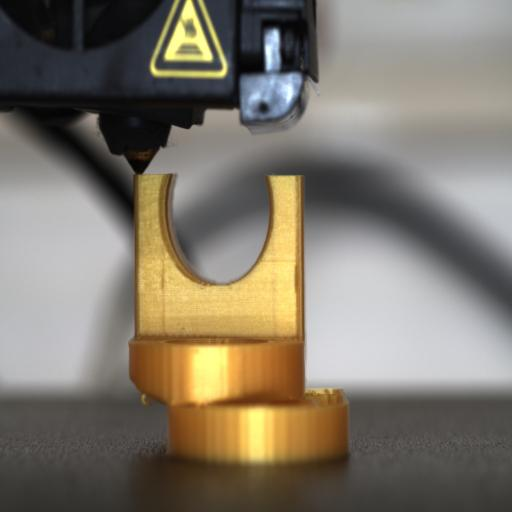layer_shift: (134, 389, 356, 411)
